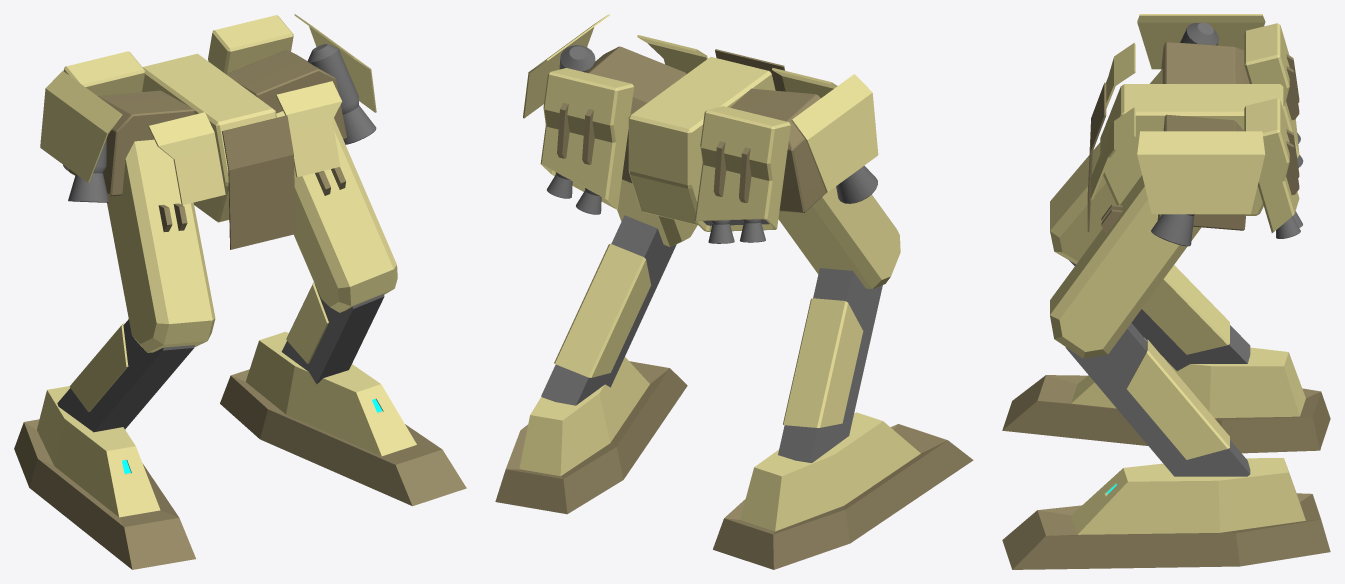
The model's file is LegsIdle.fbx.
3 views of the same model, side by side, from view 1: azimuth 30°, elevation 25°; view 2: azimuth 150°, elevation 25°; view 3: azimuth 270°, elevation 25° (orthographic). The views are drawn at different scales.
Visible parts, largest first — view 1: pasted__pCube47, pasted__pCube48, pasted__pCube37, pasted__pCube31, pasted__pasted__pCube36, pasted__pasted__pCube32, pasted__pPlane1, pasted__pCube38, pasted__pPlane4, pasted__pPlane3, pasted__pCube33 (×2), pasted__pasted__pCube40 (+7 smaller); view 2: pasted__pCube48, pasted__pCube47, pasted__pCube33 (×2), pasted__pasted__pCube32, pasted__pCube39, pasted__pCube43, pasted__pCube37, pasted__pPlane1, pasted__pCube38, pasted__pCube32, pasted__pasted__pCube40, pasted__pasted__pCube39 (+9 smaller); view 3: pasted__pCube47, pasted__pCube48, pasted__pCube31, pasted__pCube33 (×2), pasted__pPlane2, pasted__pasted__pCube32, pasted__pCube32, pasted__pCube37, pasted__pCube43, pasted__pasted__pCube40, pasted__pPlane1, pasted__pCube39 (+9 smaller).
Part boxes in pixels (<box>): pasted__pCube47: <box>220,331,466,506</box>; pasted__pCube48: <box>14,386,195,569</box>; pasted__pCube37: <box>107,139,215,352</box>; pasted__pCube31: <box>276,111,397,312</box>; pasted__pasted__pCube36: <box>222,115,295,249</box>; pasted__pasted__pCube32: <box>142,53,276,222</box>; pasted__pPlane1: <box>40,71,122,182</box>; pasted__pCube38: <box>57,319,194,432</box>; pasted__pPlane4: <box>148,112,225,205</box>; pasted__pPlane3: <box>276,81,342,177</box>; pasted__pCube33 (×2): <box>70,282,328,411</box>; pasted__pasted__pCube40: <box>68,90,194,196</box>; pasted__pCube48: <box>713,412,973,569</box>; pasted__pCube47: <box>495,357,687,514</box>; pasted__pCube33 (×2): <box>554,243,863,427</box>; pasted__pasted__pCube32: <box>628,57,775,225</box>; pasted__pCube39: <box>694,106,790,231</box>; pasted__pCube43: <box>540,68,633,209</box>; pasted__pCube37: <box>778,186,900,288</box>; pasted__pPlane1: <box>791,74,878,192</box>; pasted__pCube38: <box>778,268,882,462</box>; pasted__pCube32: <box>541,215,676,405</box>; pasted__pasted__pCube40: <box>730,88,826,212</box>; pasted__pasted__pCube39: <box>585,46,686,183</box>; pasted__pCube47: <box>1002,458,1330,569</box>; pasted__pCube48: <box>1002,347,1330,453</box>; pasted__pCube31: <box>1050,175,1201,358</box>; pasted__pCube33 (×2): <box>1126,265,1229,459</box>; pasted__pPlane2: <box>1137,131,1265,214</box>; pasted__pasted__pCube32: <box>1100,84,1283,215</box>; pasted__pCube32: <box>1065,323,1250,476</box>; pasted__pCube37: <box>1050,69,1162,264</box>; pasted__pCube43: <box>1244,98,1299,232</box>; pasted__pasted__pCube40: <box>1161,42,1249,83</box>; pasted__pPlane1: <box>1137,14,1265,69</box>; pasted__pCube39: <box>1244,23,1299,158</box>.
Bounding box in the file's own units: 13.18 × 15 × 10.82.
